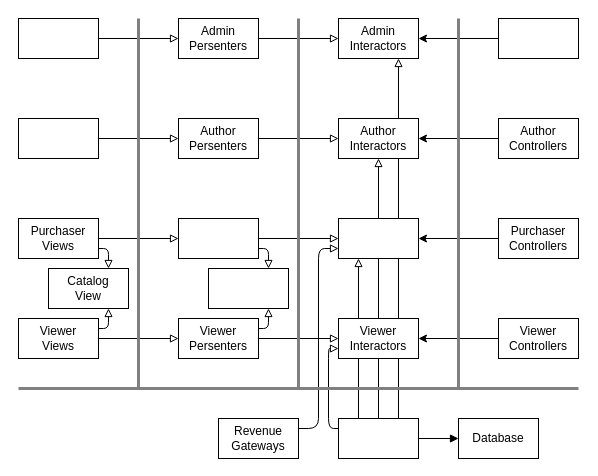
This 598x476 diagram has some shape labels left out. Each missing label, with the centre of its shape:
"Admin Controllers" goes at (538,38).
"Admin Views" goes at (58,38).
"Author Views" goes at (58,138).
"Catalog Presenters" goes at (248,288).
"Data Gateways" goes at (378,438).
"Purchaser Interactors" goes at (378,238).
"Purchaser Persenters" goes at (218,238).
